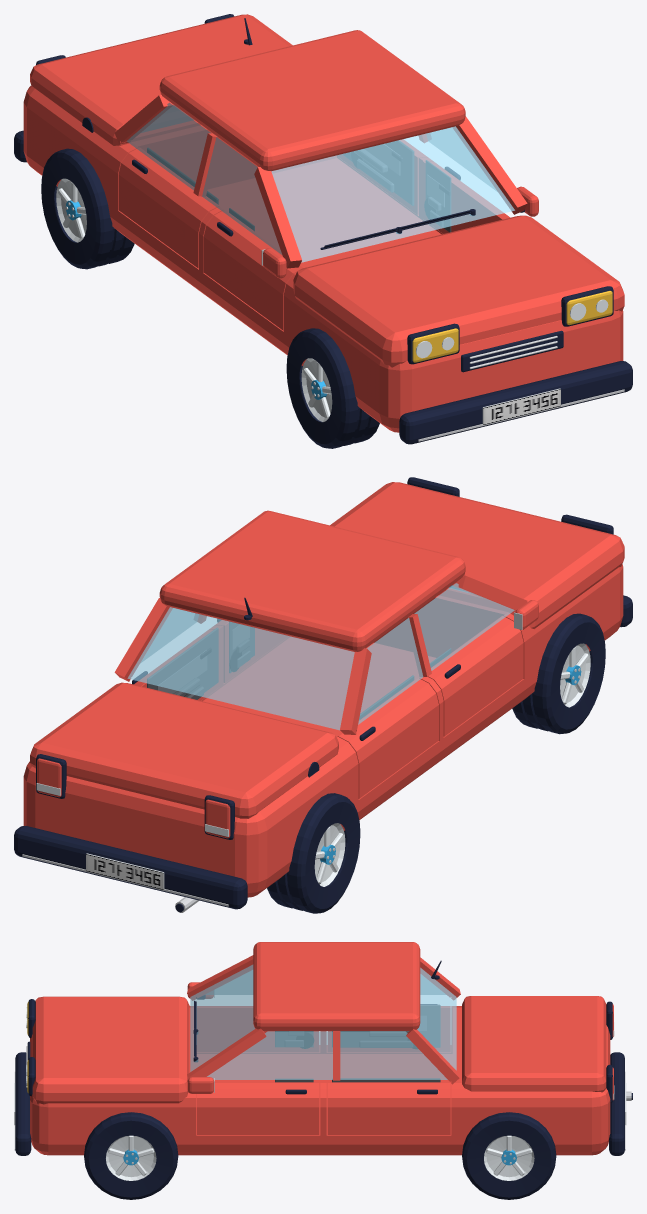
Rendered from V02_sedan_v3.glb.
The picture shows the model from 3 angles, top to bottom: view 1: azimuth 30°, elevation 25°; view 2: azimuth 150°, elevation 25°; view 3: azimuth 270°, elevation 25°; orthographic projection. The views are drawn at different scales.
Visible parts, largest first — view 1: Body, Glass, Static, Trunk, Wheel_FR, Wheel_RR, Door_Rear_R, Door_R, DoorDetail_Rear_L, Door_L, DoorDetail_L, Door_Rear_L; view 2: Body, Trunk, Glass, Static, Wheel_RR, Wheel_FR, Door_R, Door_Rear_R, DoorDetail_Rear_L, DoorDetail_L, Door_L; view 3: Body, Glass, Trunk, Wheel_RL, Wheel_FL, Door_Rear_L, Door_L, Static, Door_R, DoorDetail_Rear_R, Door_Rear_R, DoorDetail_Rear_L (+2 smaller).
Boxes of the visible parts, box(x1,y1,x2,y2) form: Body: box(23, 30, 624, 432); Glass: box(127, 102, 514, 262); Static: box(14, 14, 632, 444); Trunk: box(30, 14, 292, 145); Wheel_FR: box(286, 328, 379, 448); Wheel_RR: box(41, 148, 134, 269); Door_Rear_R: box(118, 139, 218, 268); Door_R: box(203, 210, 303, 330); DoorDetail_Rear_L: box(343, 140, 413, 205); Door_L: box(423, 161, 510, 233); DoorDetail_L: box(424, 160, 460, 232); Door_Rear_L: box(338, 139, 428, 214); Body: box(23, 482, 624, 897); Trunk: box(30, 682, 338, 818); Glass: box(127, 583, 514, 730); Static: box(14, 477, 632, 912); Wheel_RR: box(267, 793, 360, 913); Wheel_FR: box(512, 613, 605, 734); Door_R: box(428, 609, 523, 736); Door_Rear_R: box(337, 676, 438, 798); DoorDetail_Rear_L: box(132, 627, 218, 699); DoorDetail_L: box(217, 619, 254, 672); Door_L: box(214, 620, 288, 682); Body: box(30, 942, 610, 1155); Glass: box(190, 965, 456, 1079); Trunk: box(462, 996, 606, 1092); Wheel_RL: box(462, 1112, 556, 1199); Wheel_FL: box(84, 1112, 178, 1199); Door_Rear_L: box(327, 1081, 450, 1134); Door_L: box(197, 1082, 319, 1134); Static: box(14, 960, 632, 1155); Door_R: box(197, 997, 319, 1051); DoorDetail_Rear_R: box(332, 1004, 440, 1048); Door_Rear_R: box(327, 997, 450, 1051); DoorDetail_Rear_L: box(332, 1078, 440, 1094).
Size of what is drawn, in the model's own units: 1.77 by 1.59 by 4.67.
3 materials, 1 textured.
